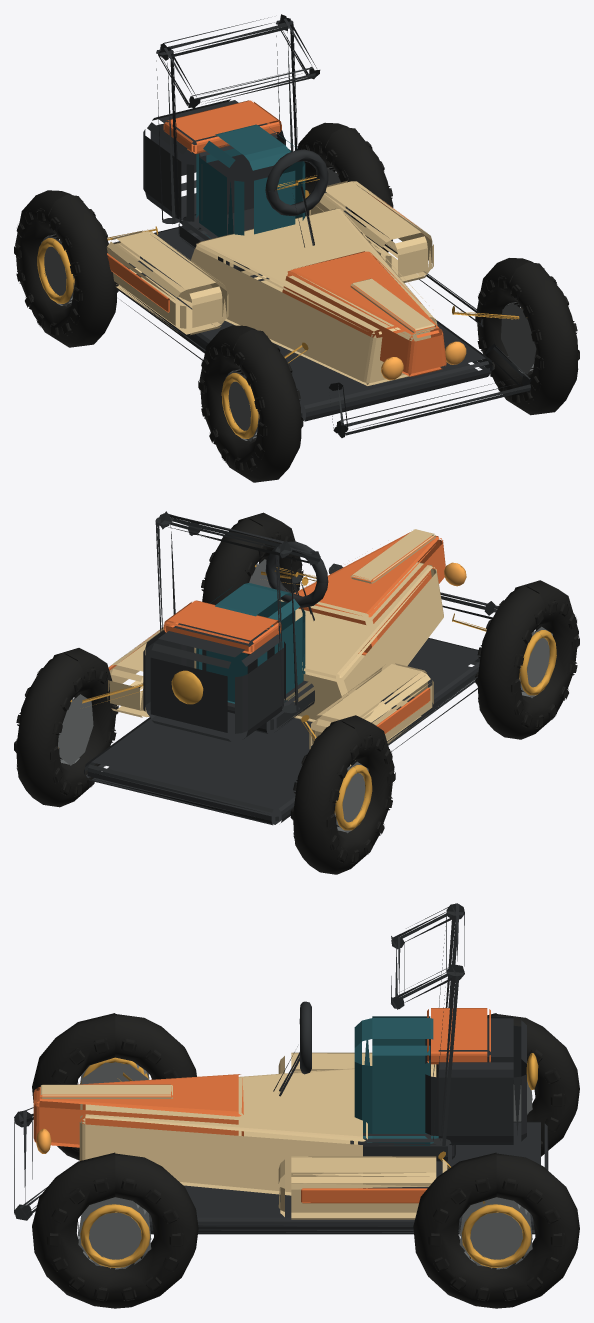
The model's file is KART-01_LOD2.glb.
3 renders of one model, top to bottom at view 1: azimuth 30°, elevation 25°; view 2: azimuth 150°, elevation 25°; view 3: azimuth 270°, elevation 25°, orthographic. The views are drawn at different scales.
Parts seen in each view (by area): view 1: KART01_body_main, KART01_L_F_tire, KART01_L_R_tire, KART01_R_F_tire, KART01_floor_plate, KART01_body_nose, KART01_seat, KART01_sidepod_L, KART01_rear_engine, KART01_sidepod_R, KART01_R_R_tire, KART01_engine_cover (+14 smaller); view 2: KART01_floor_plate, KART01_rear_engine, KART01_body_main, KART01_L_F_tire, KART01_L_R_tire, KART01_R_R_tire, KART01_body_nose, KART01_seat, KART01_sidepod_L, KART01_R_F_tire, KART01_engine_cover, KART01_sidepod_R (+15 smaller); view 3: KART01_body_main, KART01_R_R_tire, KART01_R_F_tire, KART01_rear_engine, KART01_seat, KART01_body_nose, KART01_floor_plate, KART01_sidepod_R, KART01_L_F_tire, KART01_L_R_tire, KART01_engine_cover, KART01_R_R_hub (+14 smaller).
Part boxes in pixels (left/top/right/bottom): KART01_body_main: left=178, top=208, right=437, bottom=385; KART01_L_F_tire: left=199, top=325, right=301, bottom=482; KART01_L_R_tire: left=15, top=190, right=116, bottom=347; KART01_R_F_tire: left=476, top=258, right=578, bottom=415; KART01_floor_plate: left=113, top=226, right=493, bottom=421; KART01_body_nose: left=282, top=251, right=446, bottom=376; KART01_seat: left=196, top=124, right=305, bottom=238; KART01_sidepod_L: left=106, top=230, right=228, bottom=335; KART01_rear_engine: left=143, top=99, right=285, bottom=229; KART01_sidepod_R: left=309, top=180, right=433, bottom=282; KART01_R_R_tire: left=297, top=122, right=393, bottom=252; KART01_engine_cover: left=163, top=100, right=281, bottom=153; KART01_floor_plate: left=84, top=638, right=480, bottom=825; KART01_rear_engine: left=143, top=623, right=285, bottom=741; KART01_body_main: left=194, top=562, right=443, bottom=722; KART01_L_F_tire: left=477, top=580, right=578, bottom=739; KART01_L_R_tire: left=293, top=715, right=394, bottom=874; KART01_R_R_tire: left=16, top=648, right=116, bottom=807; KART01_body_nose: left=294, top=532, right=445, bottom=655; KART01_seat: left=196, top=583, right=305, bottom=703; KART01_sidepod_L: left=309, top=663, right=433, bottom=766; KART01_R_F_tire: left=202, top=512, right=302, bottom=604; KART01_engine_cover: left=163, top=600, right=281, bottom=653; KART01_sidepod_R: left=107, top=627, right=163, bottom=717; KART01_body_main: left=79, top=1068, right=367, bottom=1195; KART01_R_R_tire: left=413, top=1152, right=579, bottom=1308; KART01_R_F_tire: left=32, top=1152, right=198, bottom=1308; KART01_rear_engine: left=425, top=1017, right=526, bottom=1144; KART01_seat: left=354, top=1016, right=438, bottom=1145; KART01_body_nose: left=33, top=1074, right=243, bottom=1147; KART01_floor_plate: left=149, top=1121, right=548, bottom=1234; KART01_sidepod_R: left=278, top=1156, right=447, bottom=1219; KART01_L_F_tire: left=32, top=1013, right=196, bottom=1160; KART01_L_R_tire: left=436, top=1013, right=579, bottom=1156; KART01_engine_cover: left=427, top=1008, right=490, bottom=1064; KART01_R_R_hub: left=459, top=1197, right=532, bottom=1269.
Bounding box in the file's own units: 2.23 × 1.96 × 3.32.
